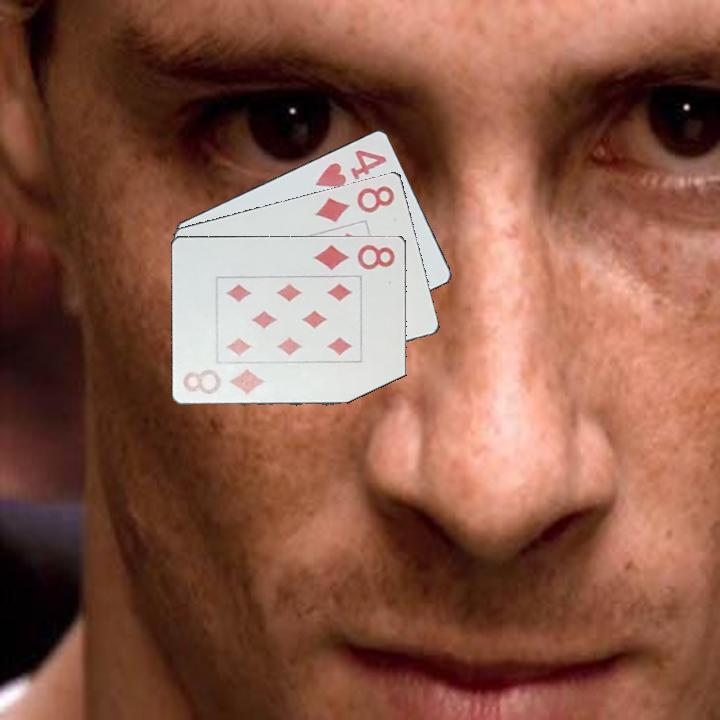4h: (311, 144, 390, 190)
8d: (311, 182, 398, 225), (310, 239, 398, 273), (180, 365, 268, 398)
